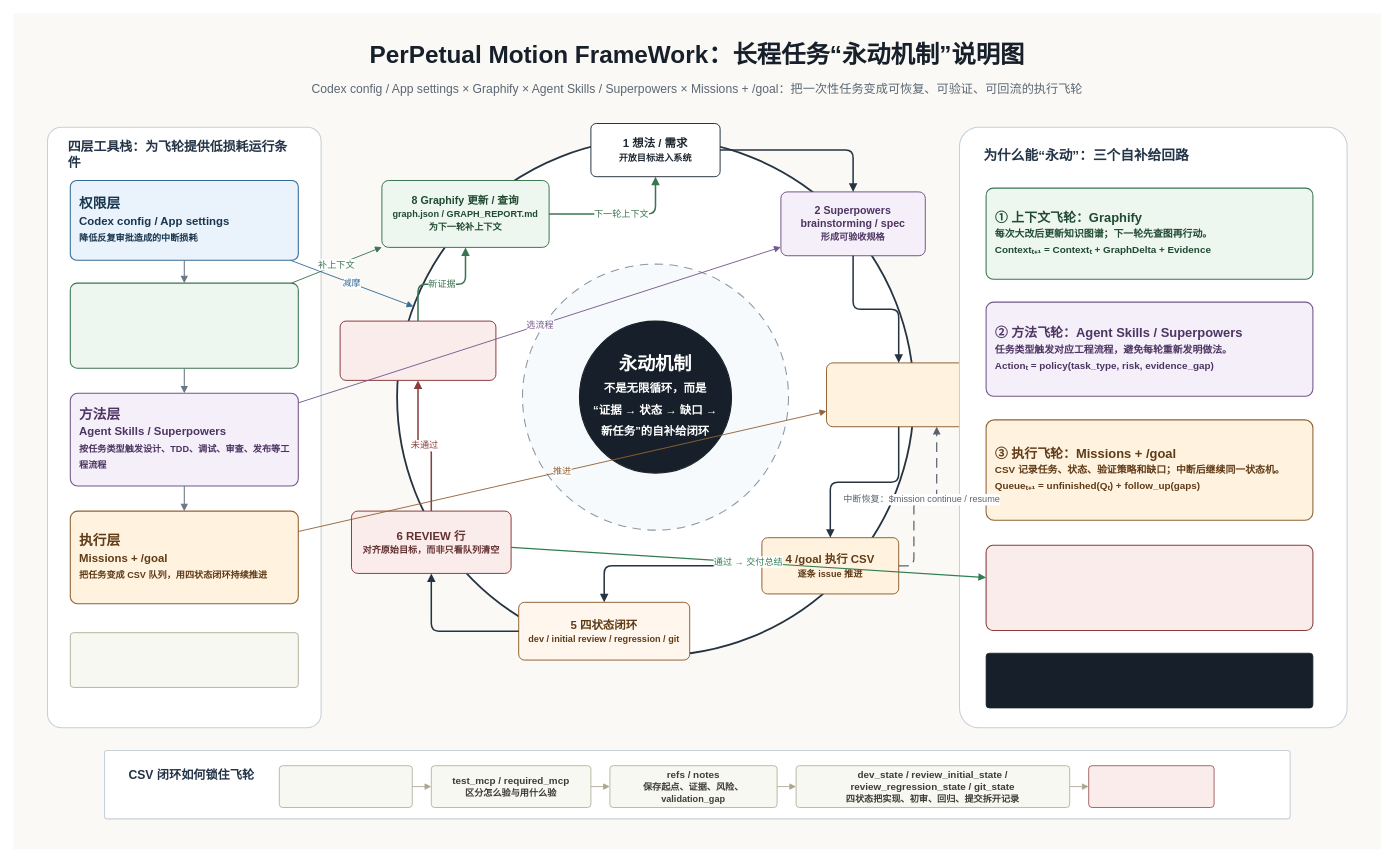
Some shapes in this 1394 by 862 pixel diagram are drawn without their labels. Here are the shapes that lost their labels. From the top down, the centre of each, then its label:
the point at 183,325: 记忆层 Graphify 将代码/文档/脚本抽成知识图谱，减少盲读与遗忘
the point at 417,350: 7 follow-up issue 未满足项、风险、验证缺口回流
the point at 898,394: 3 Missions spec / 自然语言 → CSV 任务原子化与排序
the point at 1149,587: 终止条件 不是“跑完若干步骤”，而是 REVIEW 行证明原始目标已满足；否则缺口继续进入 follow-up issue。
the point at 184,659: 关键解释：四层不是并列清单，而是飞轮的不同“减摩/蓄能/导向/推进”部件。
the point at 1149,680: “永动”的真实含义：系统不会凭空产出能量；新能量来自用户目标、工具验证、代码 diff、审查结论和风险缺口。框架做的是把这些输入持续转化为下一轮可执行状态。
the point at 345,786: acceptance_criteria 定义可验收完成
the point at 1151,786: REVIEW-01 最终目标对齐闸门
